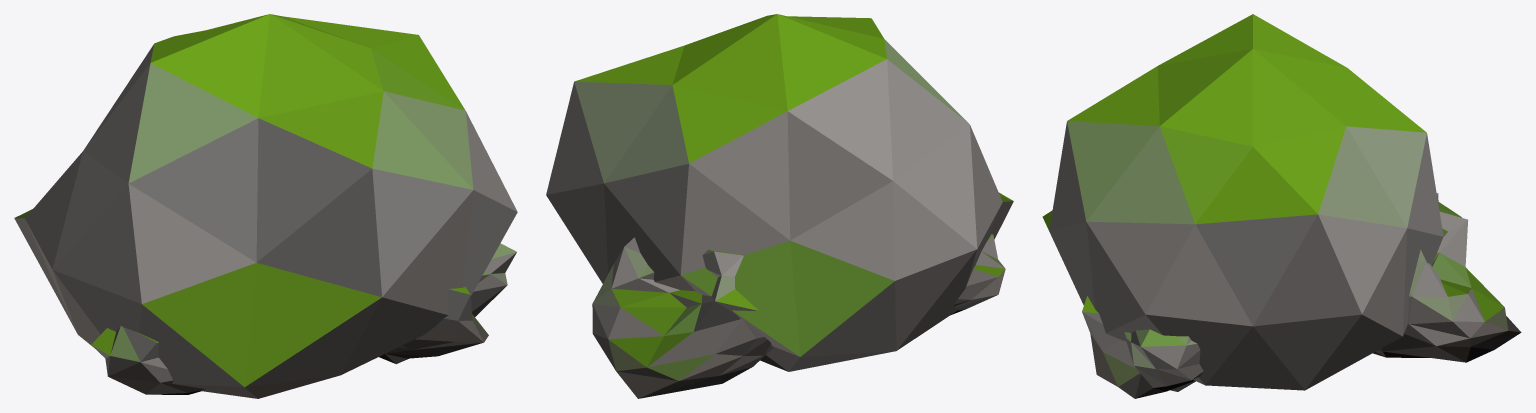
The model's file is batu_boulder_limestone_715913.glb.
3 views of the same model, side by side, from view 1: azimuth 30°, elevation 25°; view 2: azimuth 150°, elevation 25°; view 3: azimuth 270°, elevation 25° (orthographic). The views are drawn at different scales.
Visible parts, largest first — view 1: Batu_Jeram_Sungai; view 2: Batu_Jeram_Sungai; view 3: Batu_Jeram_Sungai.
Boxes of the visible parts, left/top/right/bottom form: Batu_Jeram_Sungai: left=14, top=14, right=517, bottom=398; Batu_Jeram_Sungai: left=546, top=14, right=1013, bottom=398; Batu_Jeram_Sungai: left=1042, top=14, right=1521, bottom=398.
Bounding box in the file's own units: 5.77 × 4.53 × 6.46.
